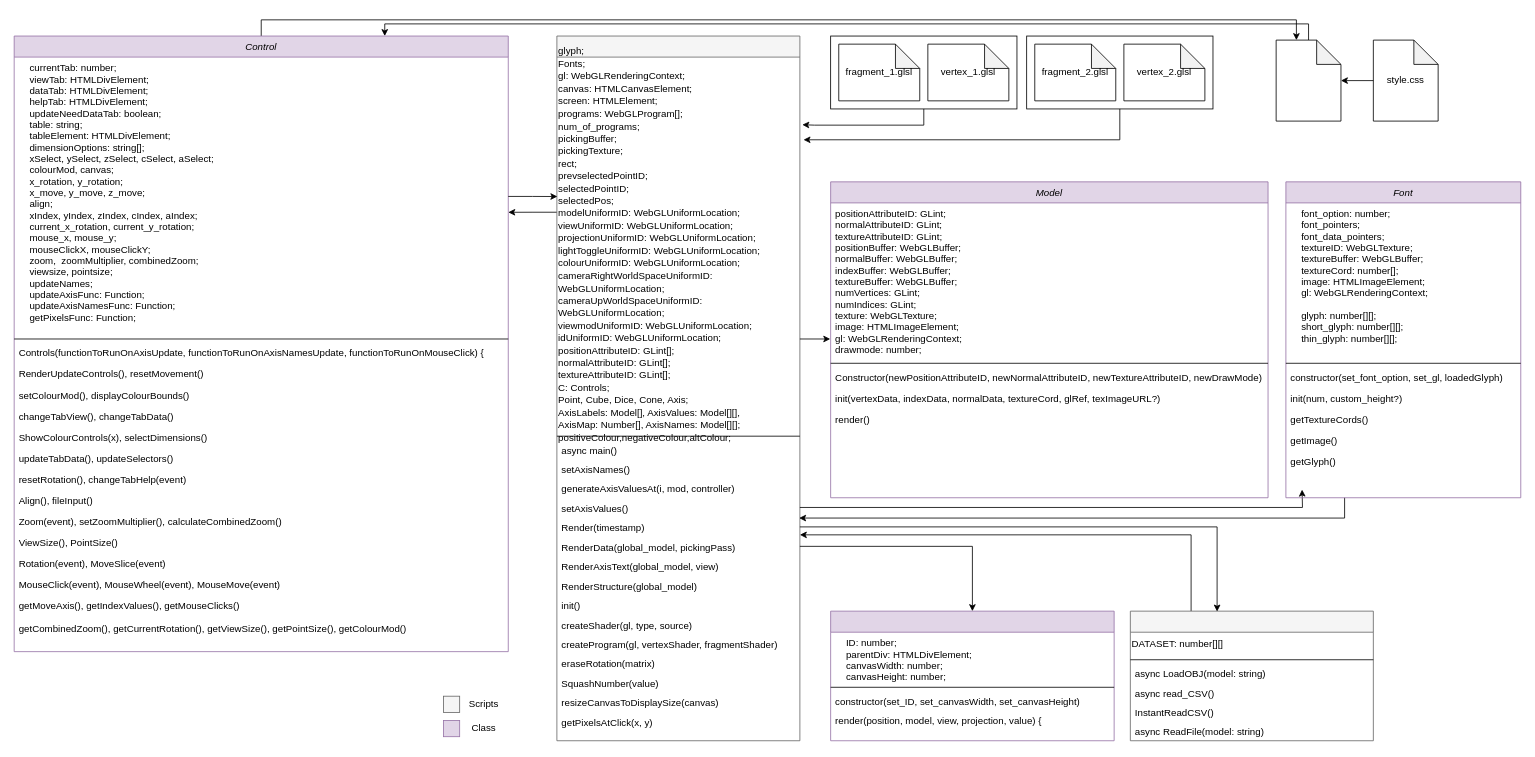
The diagram is 1535 pixels wide and 757 high, and some of its shapes have lost their labels. Each missing label, with the box of its shape:
index.html: (1275, 39, 1341, 121)
index.ts: (556, 35, 800, 741)
Loader.ts: (1130, 610, 1373, 741)
Text: (830, 610, 1114, 741)
